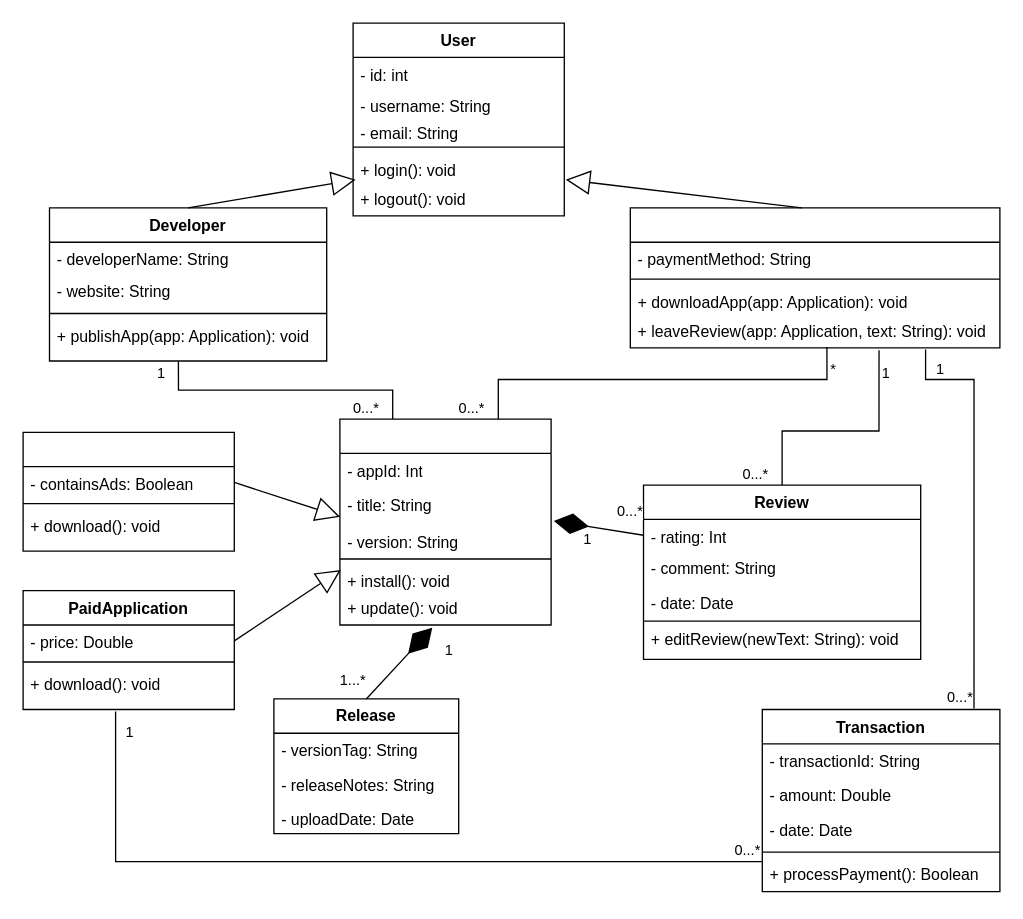
The diagram is 1023 pixels wide and 919 high, and some of its shapes have lost their labels. Here are the shapes that lost their labels. From the top down, the box of each, then its label:
(629, 207, 1000, 348): Customer
(22, 431, 234, 551): FreeApplication
(339, 418, 551, 625): Application
